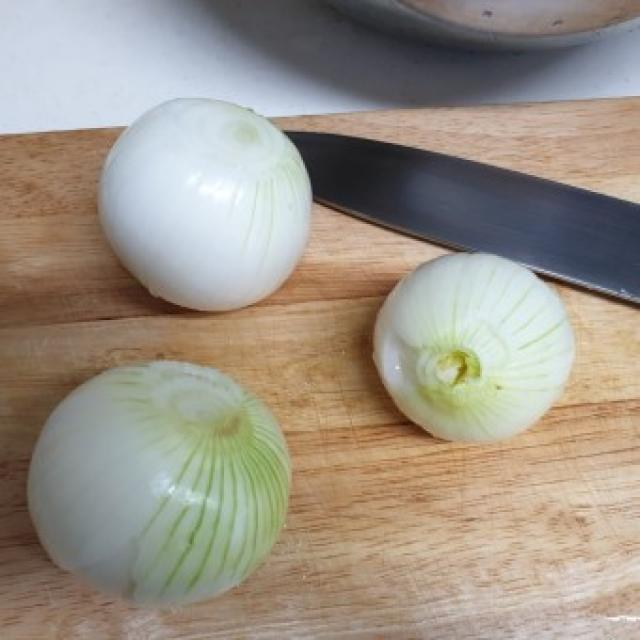onion: (25, 356, 302, 617), (95, 88, 326, 316), (363, 241, 588, 456)
